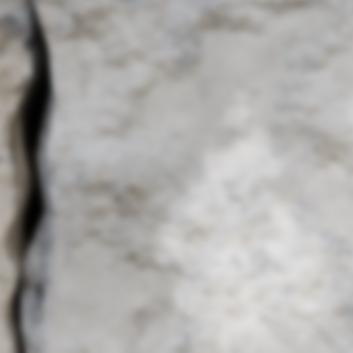brick: (22, 0, 352, 352)
crack: (0, 0, 51, 352)
